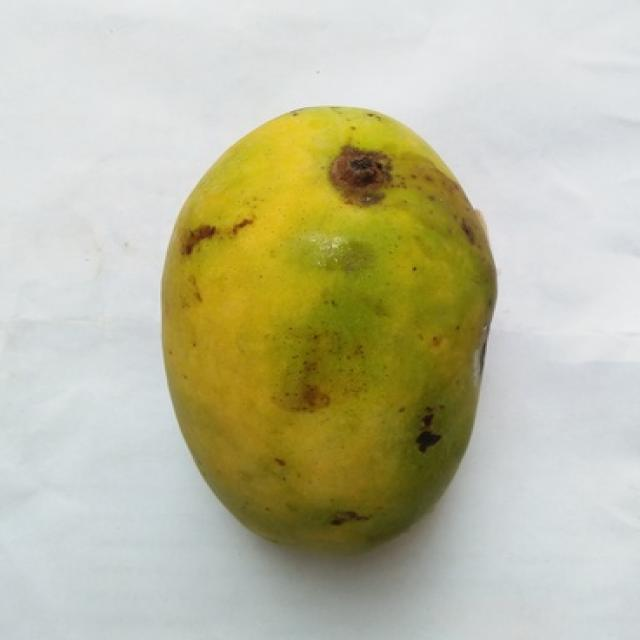Mango: (162, 107, 496, 550)
